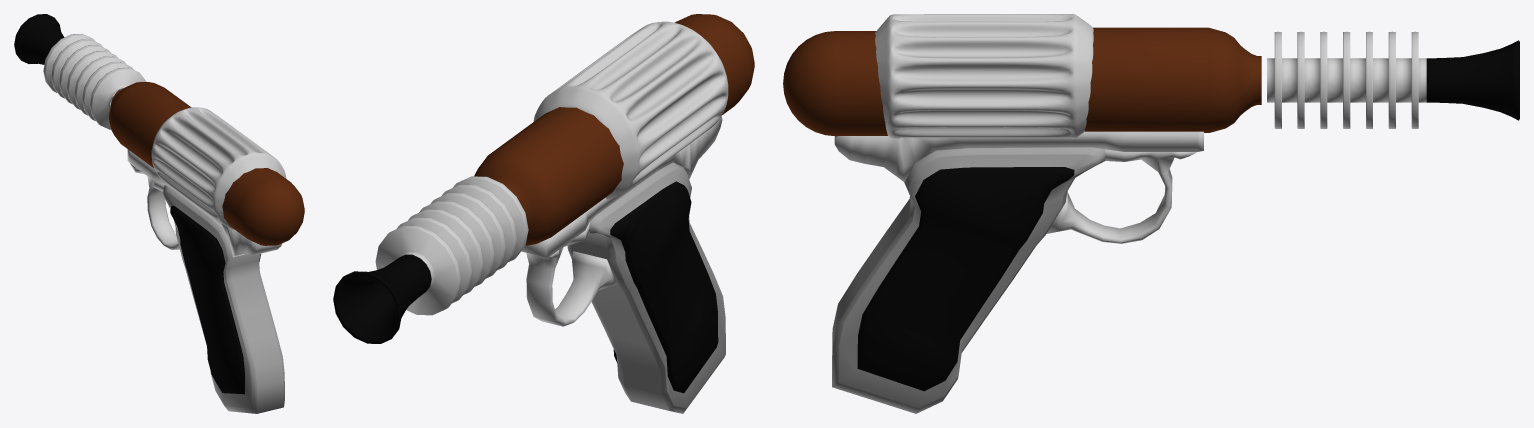
The model's file is ray_gun.obj.
3 views of the same model, side by side, from view 1: azimuth 30°, elevation 25°; view 2: azimuth 150°, elevation 25°; view 3: azimuth 270°, elevation 25° (orthographic). The views are drawn at different scales.
Visible parts, largest first — view 1: Cube_Cube.001, Sphere, Circle, Sphere.002, Sphere.003, Cube.004_Cube.005, Cube.001_Cube.002; view 2: Cube_Cube.001, Circle, Sphere, Sphere.002, Sphere.003, Cube.001_Cube.002, Cube.004_Cube.005; view 3: Cube_Cube.001, Circle, Sphere, Sphere.002, Cube.004_Cube.005, Sphere.003, Cube.001_Cube.002.
Part boxes in pixels (x1,y1,x2,y2): Cube_Cube.001: (163,185,284,413); Sphere: (109,82,304,245); Circle: (151,107,286,229); Sphere.002: (43,34,146,129); Sphere.003: (14,14,64,64); Cube.004_Cube.005: (127,149,281,257); Cube.001_Cube.002: (130,163,179,249); Cube_Cube.001: (567,162,725,413); Circle: (533,21,728,199); Sphere: (474,14,754,245); Sphere.002: (375,176,528,315); Sphere.003: (333,254,431,343); Cube.001_Cube.002: (526,222,616,326); Cube.004_Cube.005: (521,116,722,257); Cube_Cube.001: (832,147,1105,413); Circle: (875,14,1093,138); Sphere: (783,27,1261,136); Sphere.002: (1267,31,1426,128); Cube.004_Cube.005: (834,131,1203,182); Sphere.003: (1426,40,1519,120); Cube.001_Cube.002: (1046,149,1196,243).
Size of the model in its own units: 0.2286 by 0.7738 by 1.34.
